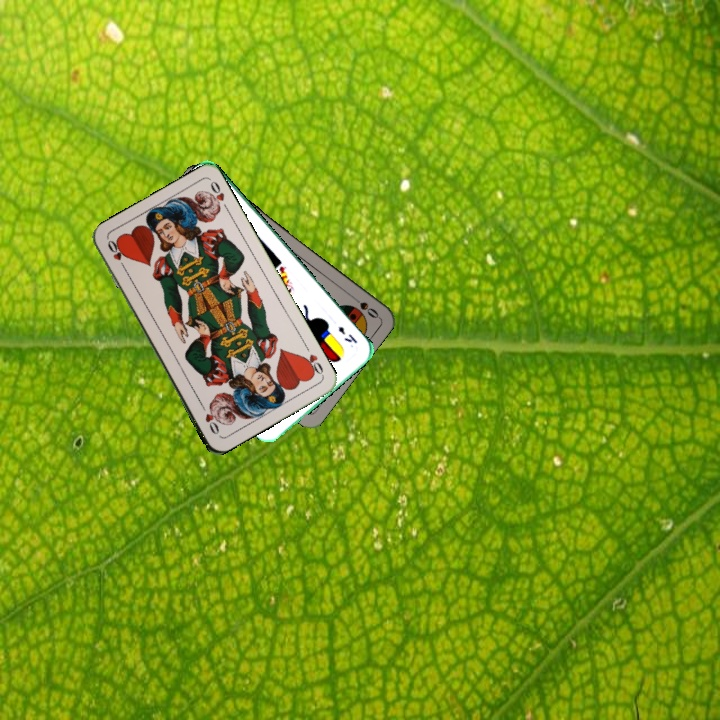EK: (334, 322, 360, 346)
HO: (298, 341, 326, 379), (103, 236, 129, 273)
SO: (347, 292, 381, 321)
